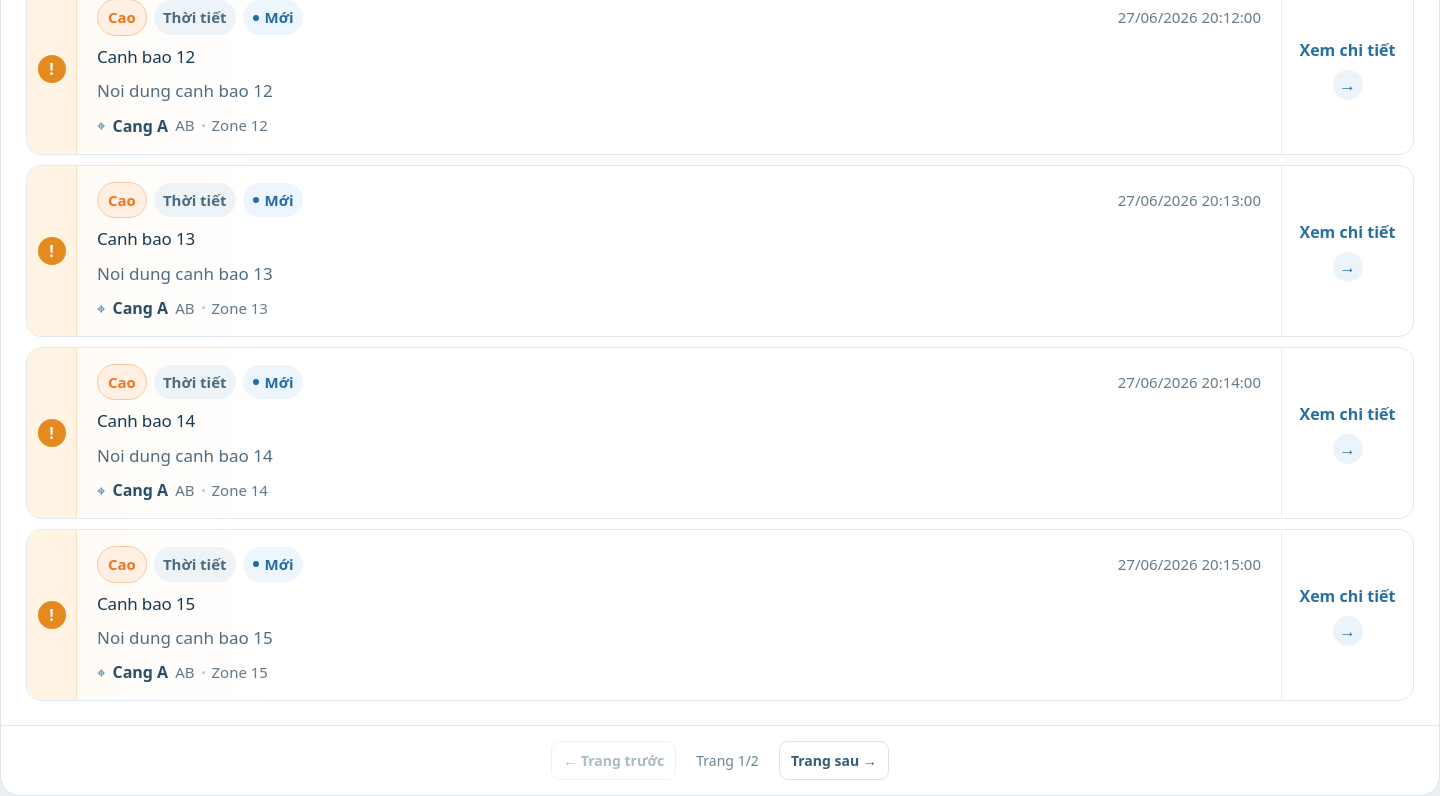
it: AlertPage › paginates alerts fifteen rows at a time
(page scrolled)
Expected: the text "Trang 1/2" is shown, [696,750,759,771]
Expected: the heading "Canh bao 15" is shown, [97,592,195,614]
Click the button "Trang sau →" at (834, 761), box [779,741,889,780]
(page scrolled)
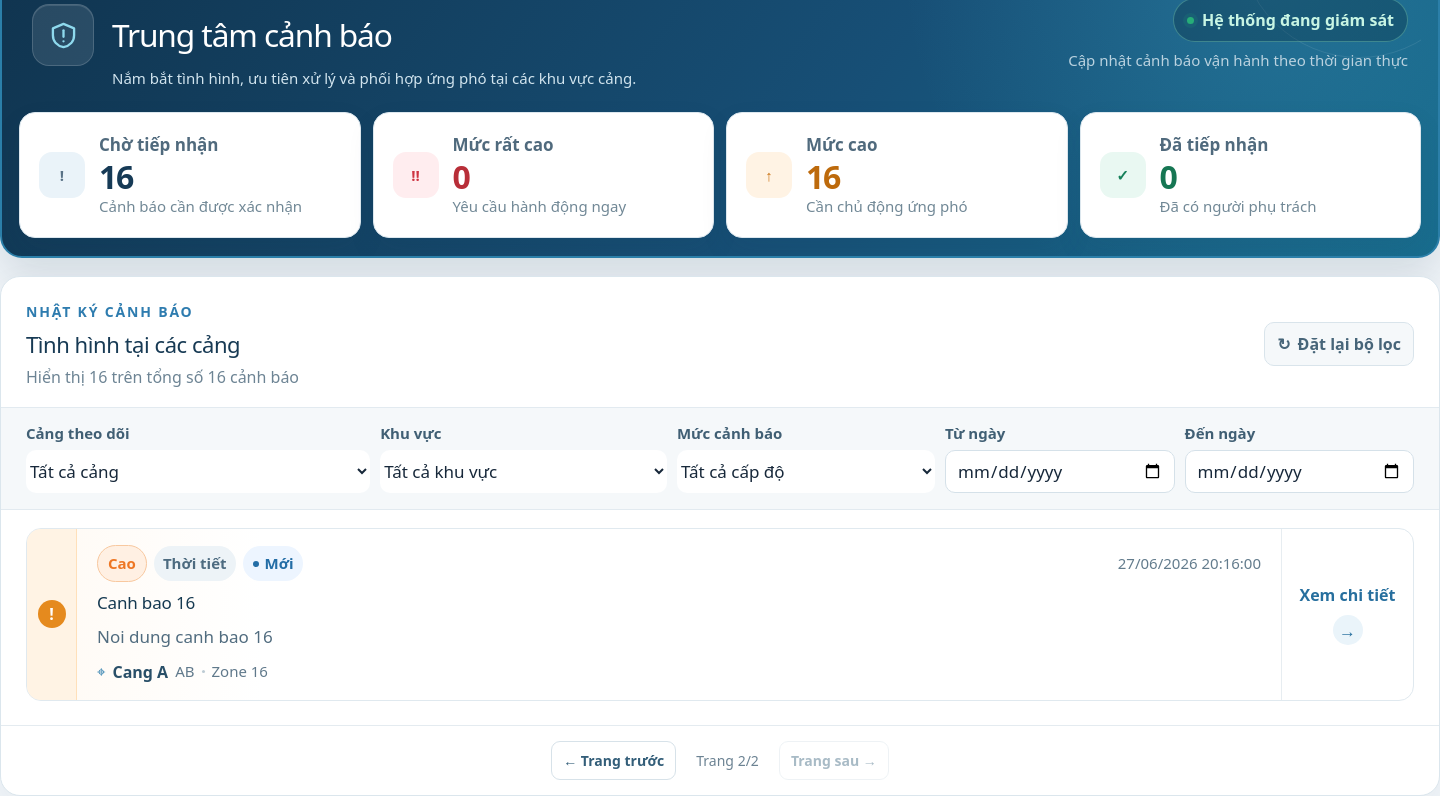
Now the text "Trang 2/2" is shown, box [696,750,759,771]
Now the heading "Canh bao 16" is shown, box [97,591,195,614]
